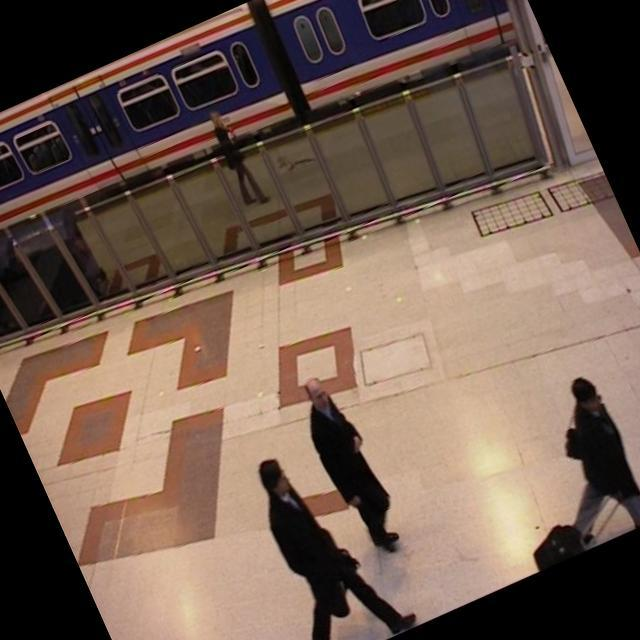person: (228, 420, 421, 640), (282, 360, 413, 562), (520, 346, 640, 547), (190, 96, 278, 222)
